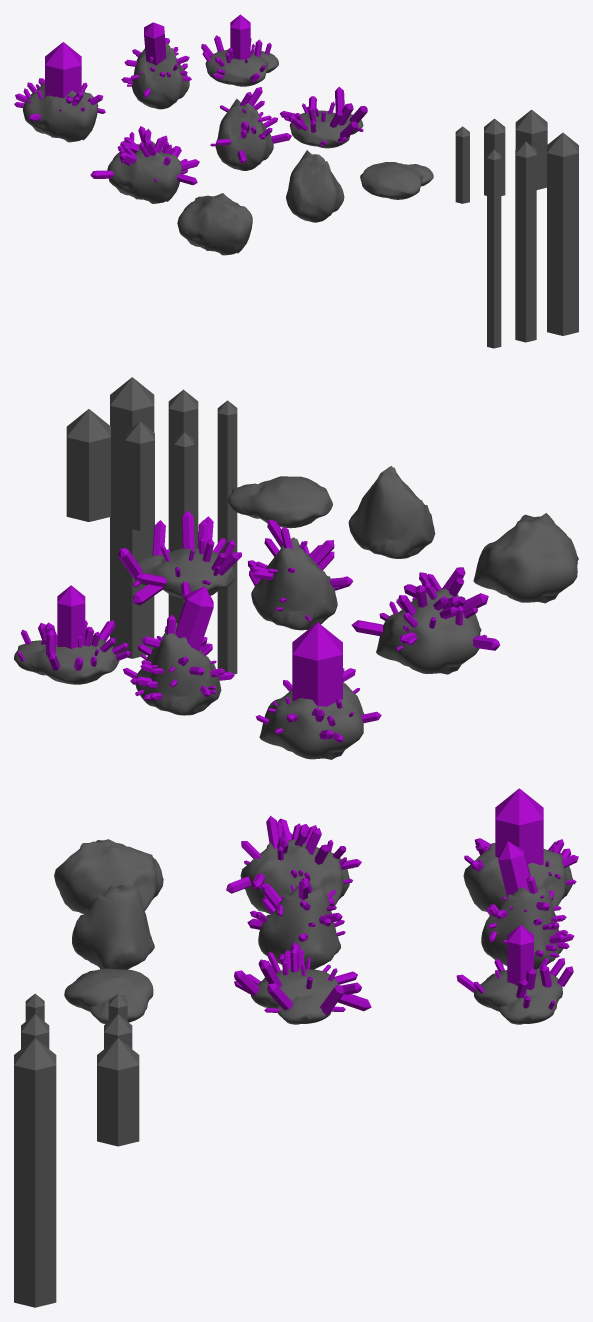
Rendered from Modular_Crystal_Cave_Part_2.fbx.
3 renders of one model, top to bottom at view 1: azimuth 30°, elevation 25°; view 2: azimuth 150°, elevation 25°; view 3: azimuth 270°, elevation 25°, orthographic. The views are drawn at different scales.
Visible parts, largest first — view 1: Crystal_Huge_3, Crystal_Huge_2, Rock_3, Crystal_Huge_1, Rock_2, Rock_Crystals_1, Rock_Crystals_Big_3, Rock_Crystals_2, Crystals_6, Rock_Crystals_Big_2, Rock_1, Crystals_1 (+9 smaller); view 2: Crystal_Huge_3, Rock_3, Rock_2, Rock_Crystals_1, Rock_Crystals_2, Crystals_6, Rock_Crystals_Big_3, Crystal_Huge_1, Crystal_1, Rock_Crystals_Big_2, Rock_1, Crystals_1 (+9 smaller); view 3: Crystal_Huge_3, Rock_3, Rock_2, Crystal_1, Rock_Crystals_2, Rock_Crystals_1, Crystals_6, Crystals_3, Rock_Crystals_Big_2, Rock_1, Rock_Crystals_Big_3, Rock_Crystals_Big_1 (+7 smaller).
Boxes of the visible parts, <box> form: Crystal_Huge_3: <box>547,132,578,335</box>; Crystal_Huge_2: <box>515,141,536,342</box>; Rock_3: <box>177,193,252,255</box>; Crystal_Huge_1: <box>487,149,501,348</box>; Rock_2: <box>286,150,344,222</box>; Rock_Crystals_1: <box>107,141,182,203</box>; Rock_Crystals_Big_3: <box>23,83,98,142</box>; Rock_Crystals_2: <box>215,98,273,170</box>; Crystals_6: <box>14,42,105,121</box>; Rock_Crystals_Big_2: <box>132,42,189,109</box>; Rock_1: <box>360,162,433,199</box>; Crystals_1: <box>90,126,199,185</box>; Crystal_Huge_3: <box>110,377,154,658</box>; Rock_3: <box>473,513,578,603</box>; Rock_2: <box>348,466,435,558</box>; Rock_Crystals_1: <box>376,588,481,674</box>; Rock_Crystals_2: <box>251,537,337,630</box>; Crystals_6: <box>255,622,381,742</box>; Rock_Crystals_Big_3: <box>259,682,363,759</box>; Crystal_Huge_1: <box>217,400,237,674</box>; Crystal_1: <box>66,409,110,521</box>; Rock_Crystals_Big_2: <box>135,622,221,715</box>; Rock_1: <box>228,476,332,528</box>; Crystals_1: <box>351,567,500,650</box>; Crystal_Huge_3: <box>14,1038,56,1307</box>; Rock_3: <box>54,839,163,914</box>; Rock_2: <box>72,885,154,969</box>; Crystal_1: <box>97,1038,139,1146</box>; Rock_Crystals_2: <box>258,886,340,969</box>; Rock_Crystals_1: <box>240,839,349,914</box>; Crystals_6: <box>464,788,578,900</box>; Crystals_3: <box>234,942,371,1016</box>; Rock_Crystals_Big_2: <box>481,886,563,969</box>; Rock_1: <box>64,968,153,1024</box>; Rock_Crystals_Big_3: <box>463,843,572,911</box>; Rock_Crystals_Big_1: <box>474,969,562,1024</box>.
Size of the model in its own units: 1083 by 623 by 1039.
